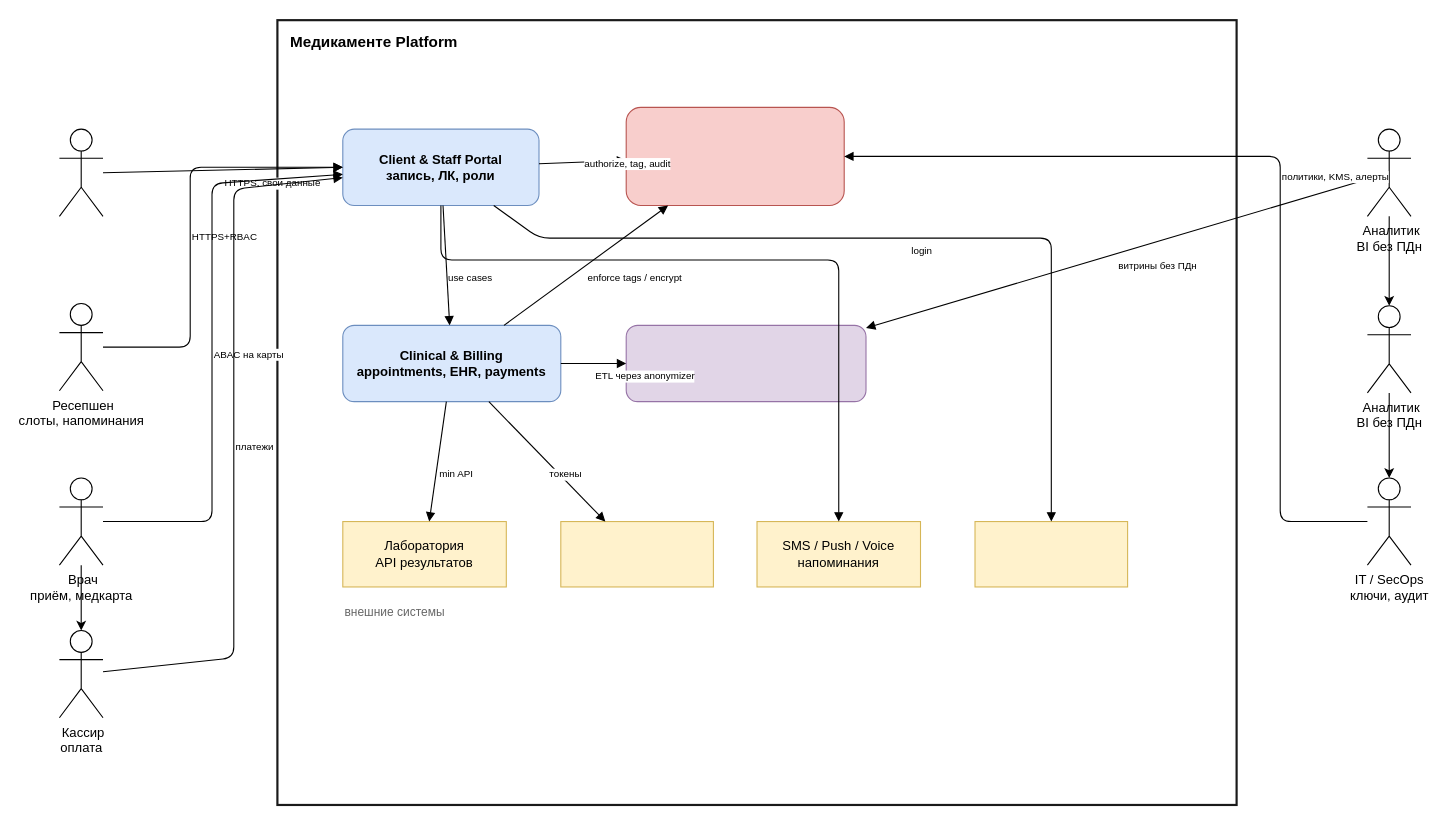
The diagram is 1448 pixels wide and 824 high, and some of its shapes have lost their labels. The box of each missing label's shape, as (x1, y1, x2, y2) in pixels:
IdP (AD/OIDC) аутентификация: (974, 520, 1128, 587)
Privacy Control Plane теги, RBAC/ABAC, consent, audit, DLP: (625, 106, 844, 205)
Privacy-preserving Analytics anonymizer → lake → BI/ML: (625, 324, 866, 402)
Пациент ЛК / запись: (58, 128, 103, 216)
Эквайер / ККМ платежи: (560, 520, 713, 587)
